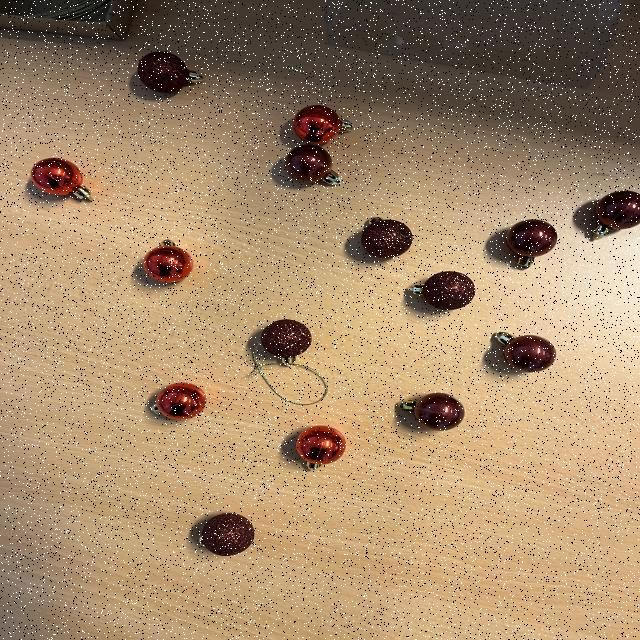glitter-bauble: (121, 42, 211, 100), (252, 312, 320, 372), (188, 508, 266, 558), (403, 270, 487, 316), (356, 214, 416, 260), (137, 52, 204, 93), (407, 271, 475, 310), (199, 513, 255, 556), (261, 319, 312, 366), (361, 217, 413, 258)
glossy-bauble: (26, 154, 100, 206), (284, 96, 363, 144), (285, 419, 349, 477), (140, 376, 213, 426), (137, 233, 200, 290), (30, 158, 93, 202), (294, 105, 354, 144), (143, 240, 194, 283), (296, 426, 345, 470), (151, 382, 207, 420)
wine-red-bauble: (496, 210, 561, 274), (389, 388, 472, 436), (486, 327, 562, 377), (276, 144, 352, 192), (582, 186, 640, 247), (505, 220, 558, 271), (397, 393, 465, 431), (495, 332, 556, 373), (592, 190, 640, 240), (285, 144, 342, 186)
